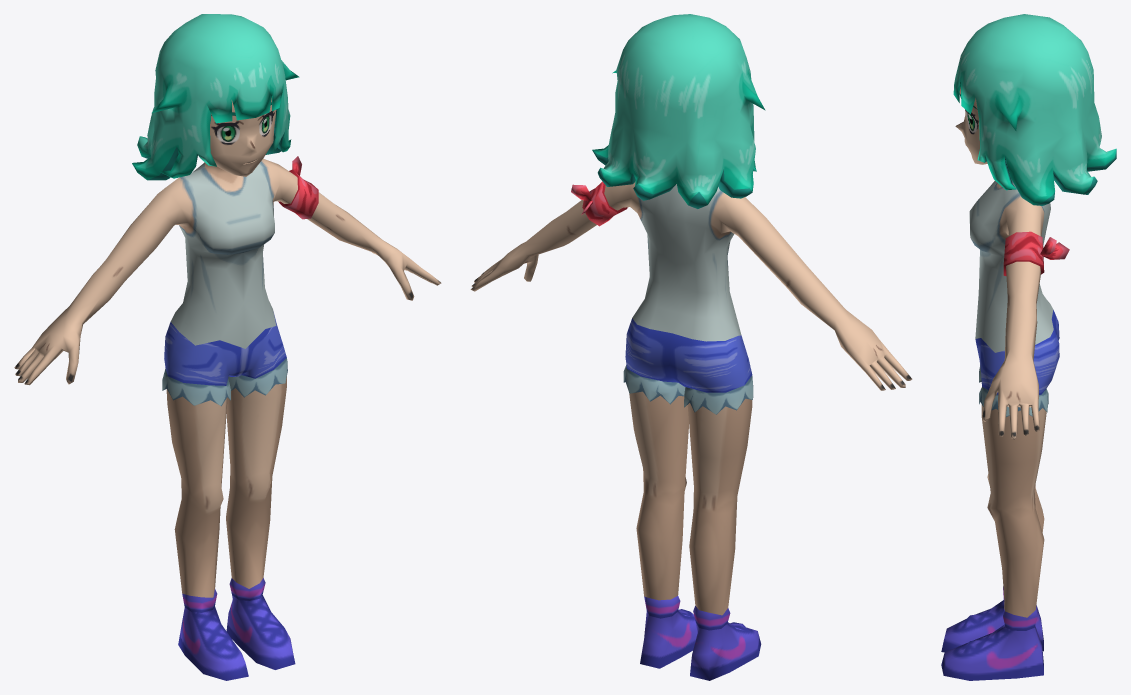
File: character_lod1.obj
3 renders of one model, left to right at view 1: azimuth 30°, elevation 25°; view 2: azimuth 150°, elevation 25°; view 3: azimuth 270°, elevation 25°, orthographic. The views are drawn at different scales.
Parts seen in each view (by area): view 1: handkerchief.002_triangulated_lod1; view 2: handkerchief.002_triangulated_lod1; view 3: handkerchief.002_triangulated_lod1.
Boxes of the visible parts, box(x1,y1,x2,y2) form: handkerchief.002_triangulated_lod1: box(14, 14, 441, 680); handkerchief.002_triangulated_lod1: box(470, 14, 912, 680); handkerchief.002_triangulated_lod1: box(941, 14, 1116, 680).
Size of the model in its own units: 1.37 by 1.96 by 0.4887.
